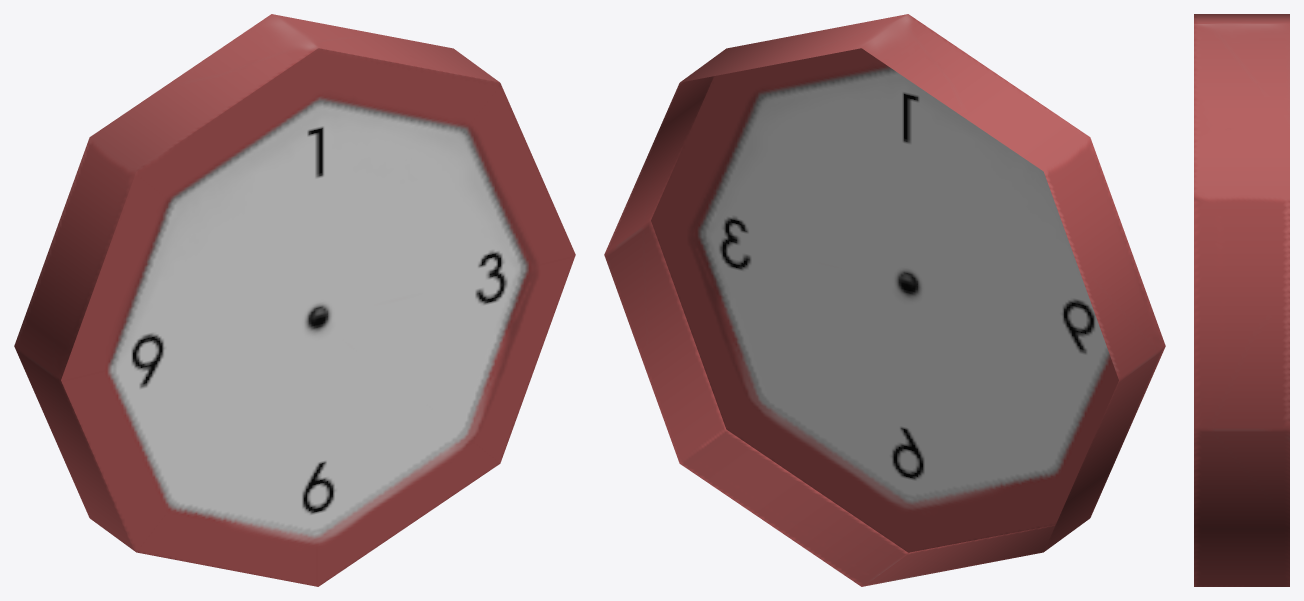
Rendered from clock.FBX.
3 renders of one model, left to right at view 1: azimuth 30°, elevation 25°; view 2: azimuth 150°, elevation 25°; view 3: azimuth 270°, elevation 25°, orthographic. The views are drawn at different scales.
Visible parts, largest first — view 1: clock; view 2: clock; view 3: clock.
Boxes of the visible parts, x1,y1,x2,y2 form: clock: (14, 14, 575, 586); clock: (604, 14, 1165, 586); clock: (1194, 14, 1289, 586).
Bounding box in the file's own units: 1.54 × 1.54 × 0.2419.
Materials: 1 (1 with a texture image).
